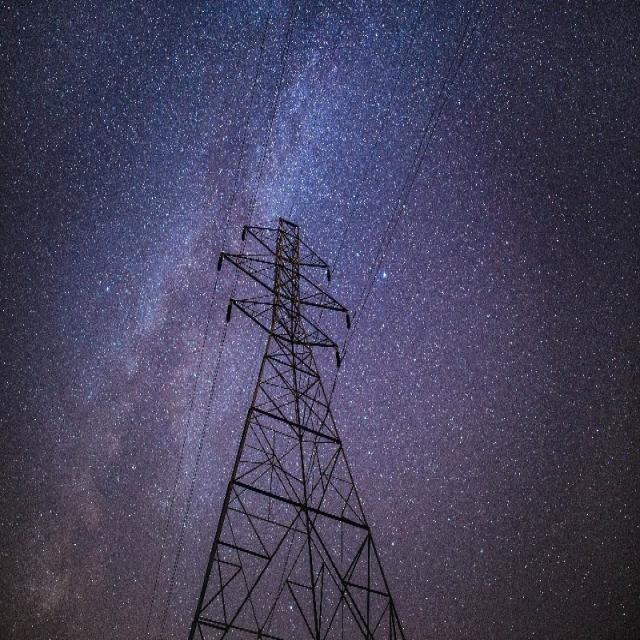non-critical vegetation: (210, 190, 382, 636)
